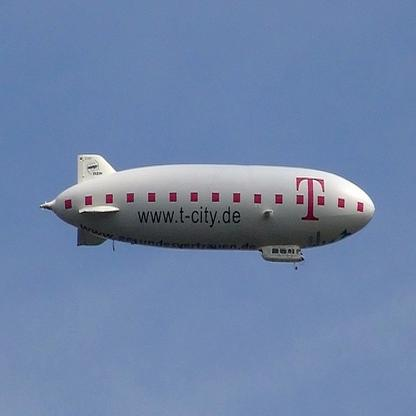Airship: (38, 147, 384, 275)
